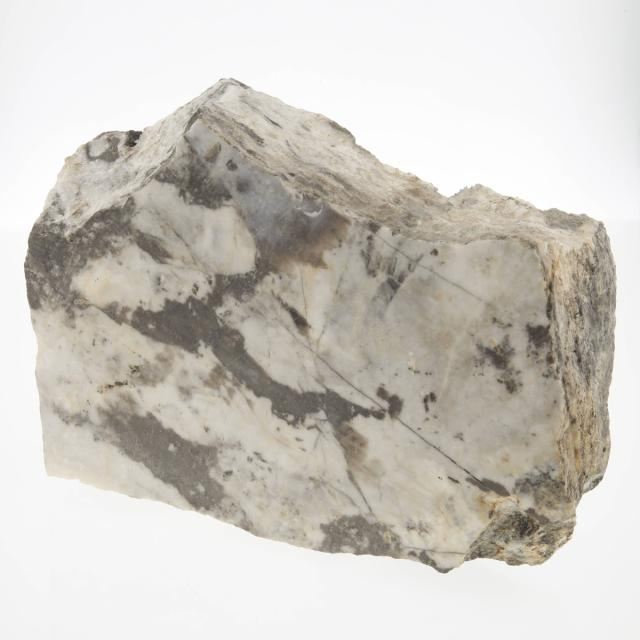Sedimentary: (14, 77, 618, 565)
